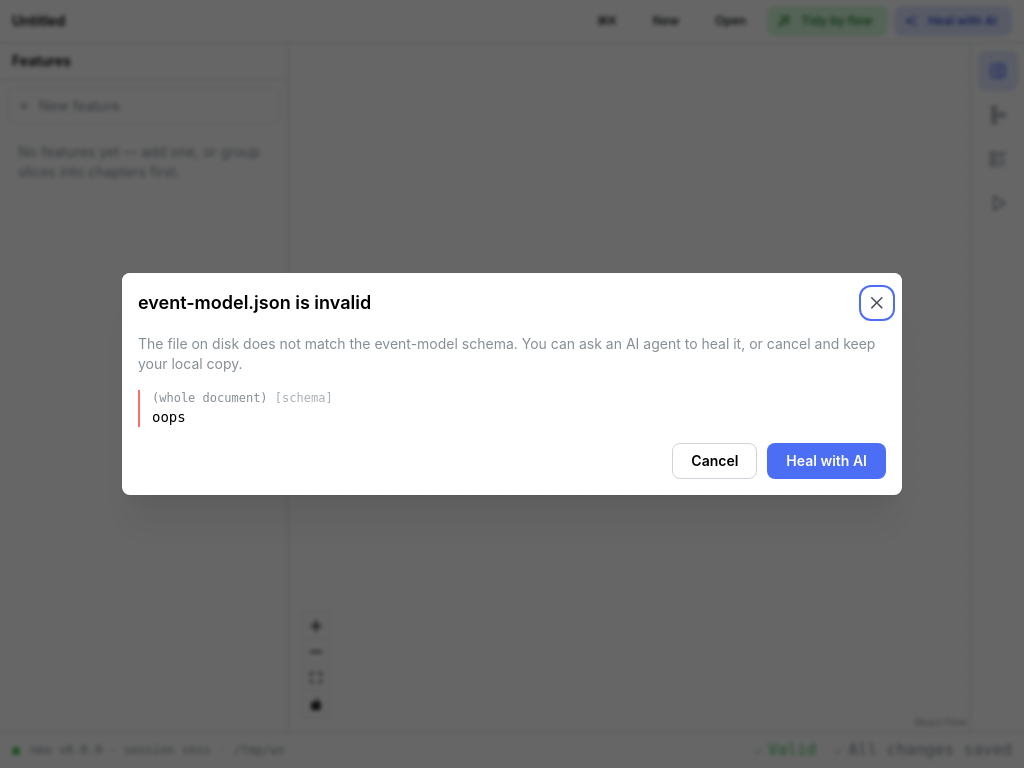
App — event-model load + heal flow › Heal RPC failure shows a toast and closes the modal
Click the button "Heal with AI".
click(827, 461)  # box [767,443,886,479]
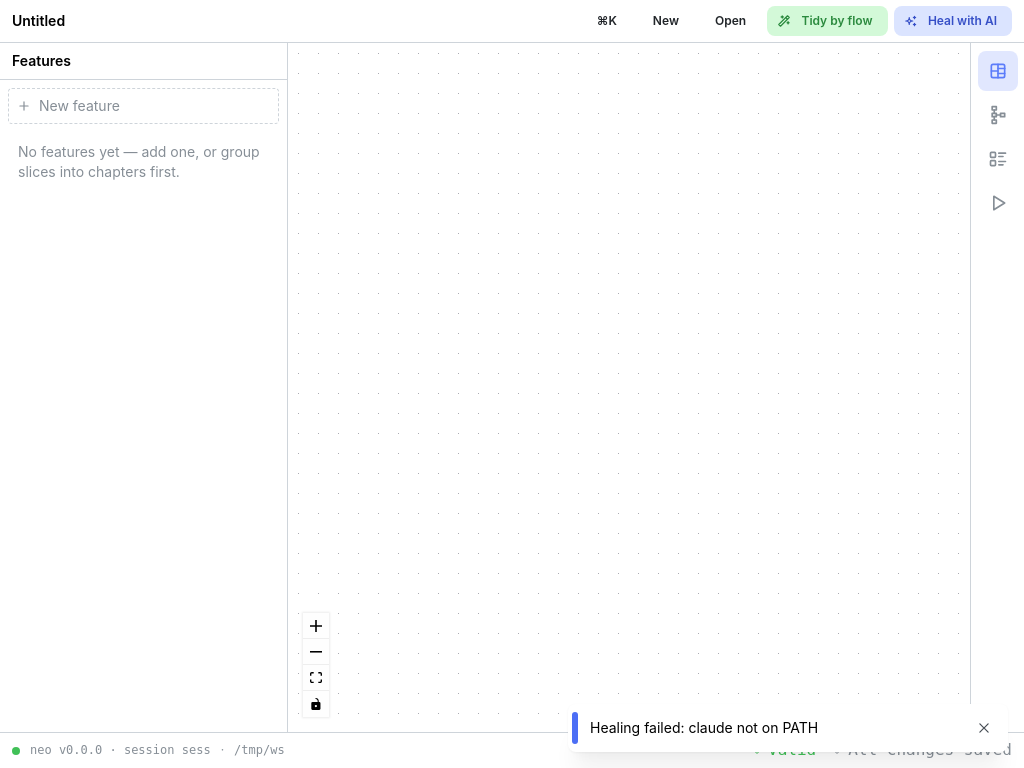
Result: the text "Healing failed: claude not on PATH" is shown at [590,719,818,736]
Result: the dialog is gone
